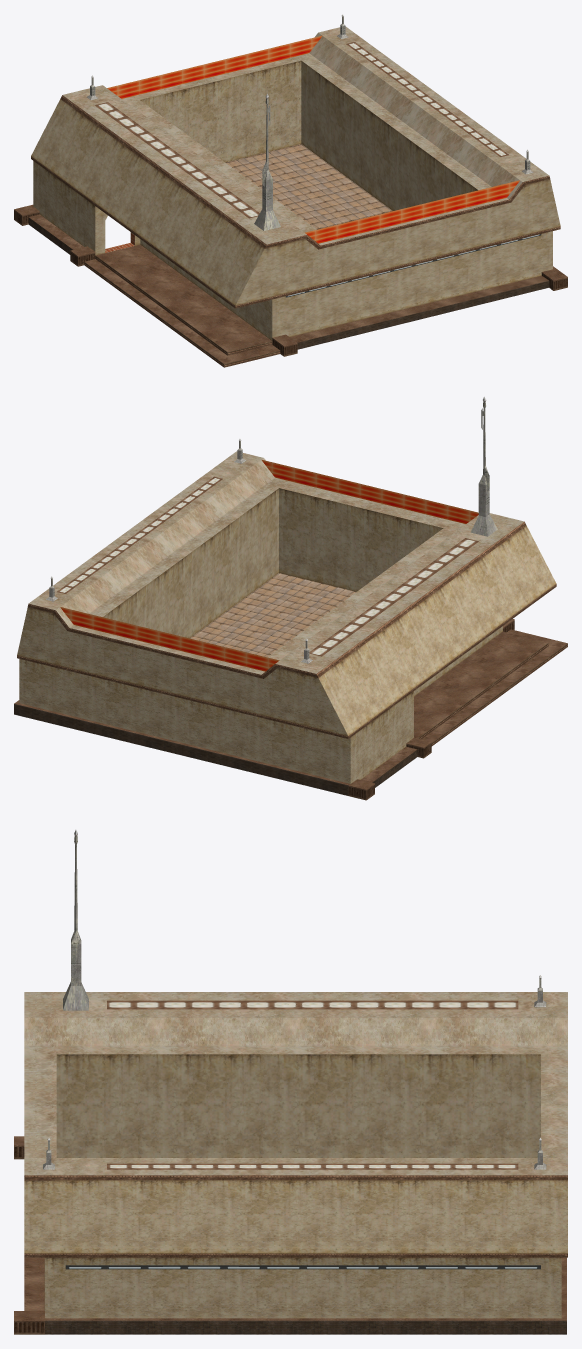
File: mun_tato_shuttleport_s01_r0_mesh_l1.fbx
3 views of the same model, one above another, from view 1: azimuth 30°, elevation 25°; view 2: azimuth 150°, elevation 25°; view 3: azimuth 270°, elevation 25° (orthographic). The views are drawn at different scales.
Parts seen in each view (by area): view 1: mesh_node; view 2: mesh_node; view 3: mesh_node.
Boxes of the visible parts, x1,y1,x2,y2 form: mesh_node: (14, 14, 567, 367); mesh_node: (14, 397, 567, 800); mesh_node: (14, 830, 567, 1334).
Size of the model in its own units: 30.85 by 20.85 by 32.16.
